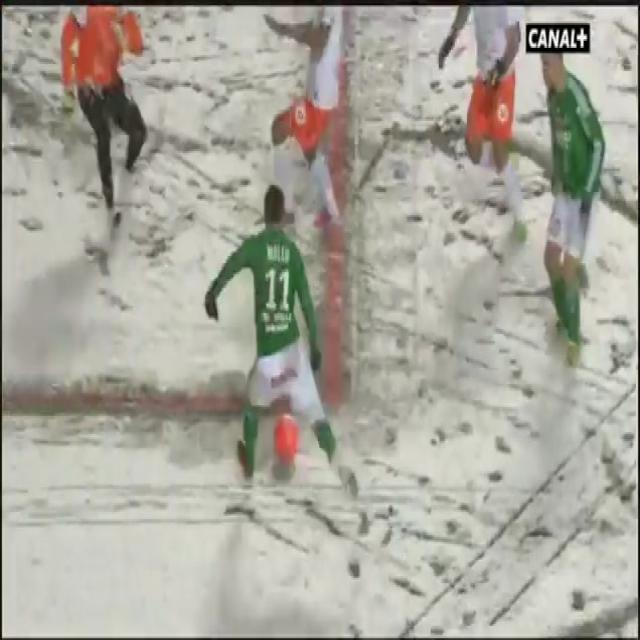ball: (270, 394, 307, 472)
goalkeeper: (54, 0, 158, 241)
player: (216, 181, 356, 521), (428, 9, 534, 248), (531, 24, 605, 366), (261, 3, 345, 223)
